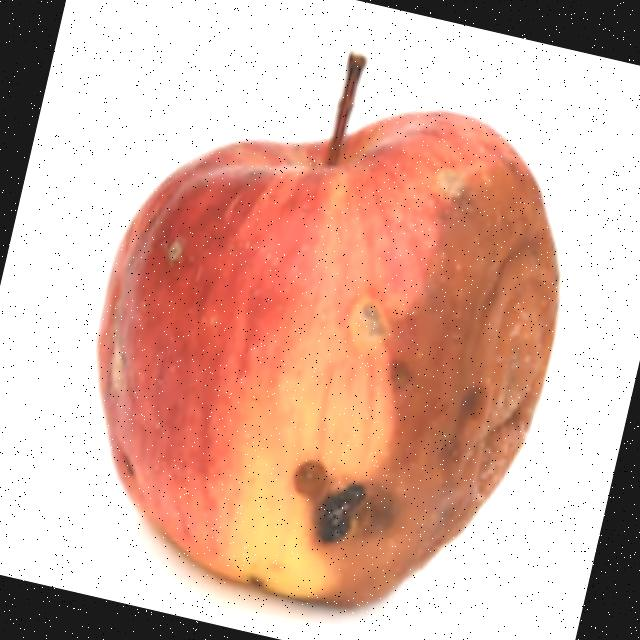Rotten: (42, 37, 609, 640)
